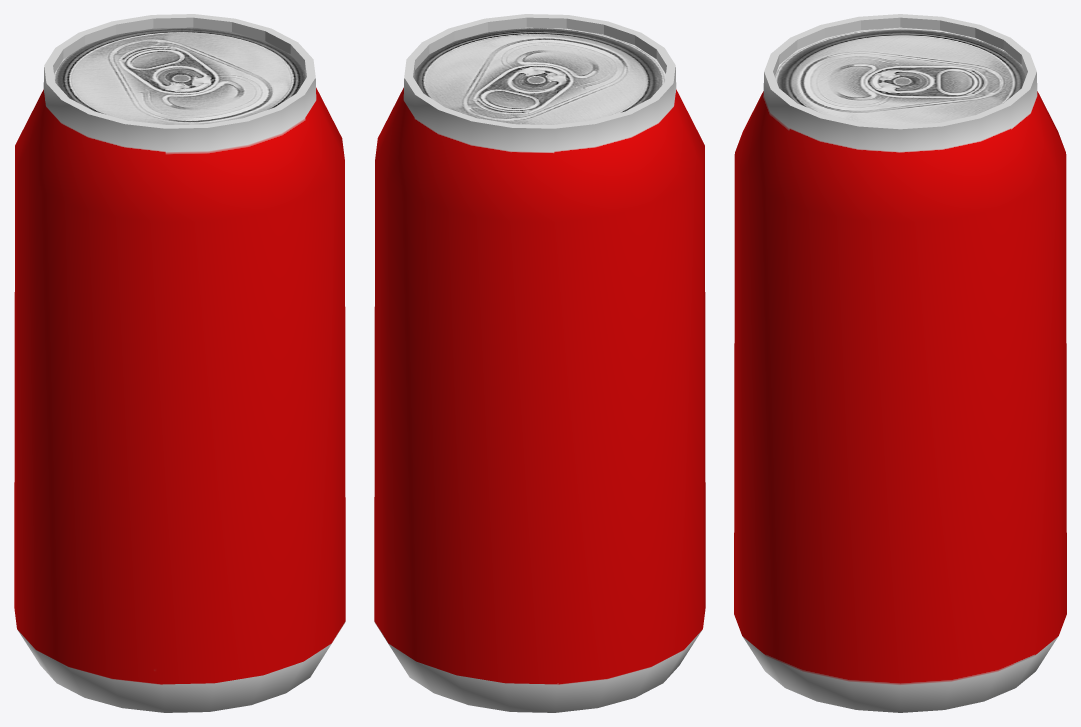
File: Can_Red.fbx
The picture shows the model from 3 angles, left to right: view 1: azimuth 30°, elevation 25°; view 2: azimuth 150°, elevation 25°; view 3: azimuth 270°, elevation 25°; orthographic projection.
Visible parts, largest first — view 1: pCylinder4; view 2: pCylinder4; view 3: pCylinder4.
Part boxes in pixels (x1=…): pCylinder4: x1=14, y1=14, x2=345, y2=712; pCylinder4: x1=374, y1=14, x2=705, y2=712; pCylinder4: x1=734, y1=14, x2=1066, y2=712.
Bounding box in the file's own units: 5.65 × 10.88 × 5.65.
